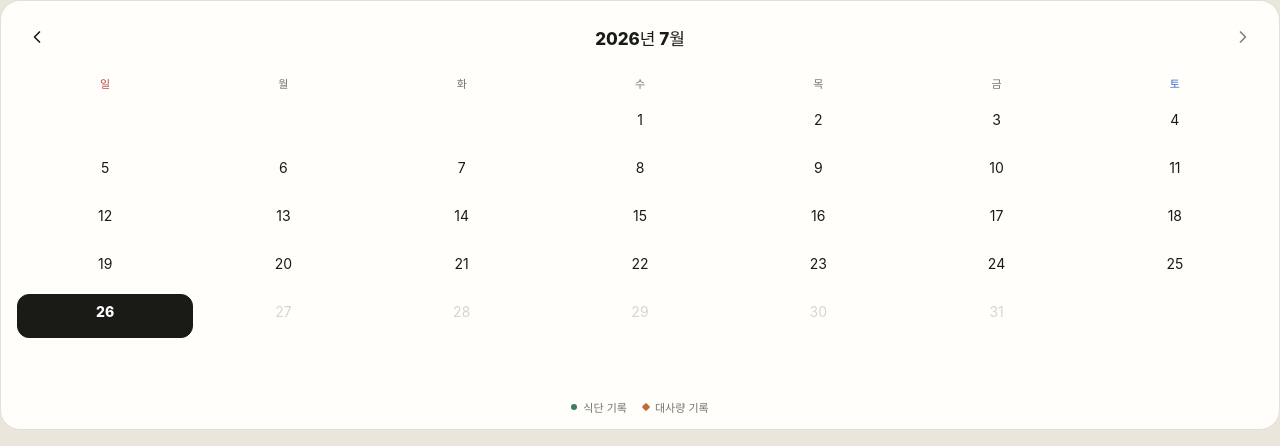
DateCalendar › 이전 달로 이동할 수 있고 오늘이 속한 달 이후 이동은 막는다
Check: the button named "2026년 8월 보기" is disabled, box [1221,15,1265,59]
Click the button named "2026년 6월 보기": click(37, 37) [15,15,59,59]
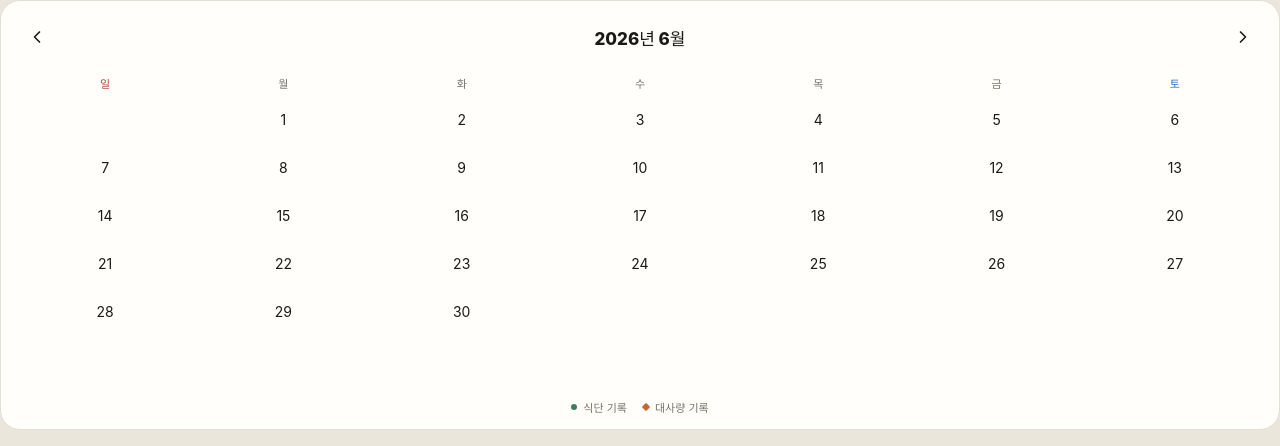
Check: the button named "2026년 7월 보기" is enabled, box [1221,15,1265,59]
Check: the heading "2026년 6월" is shown, box [594,28,686,48]
